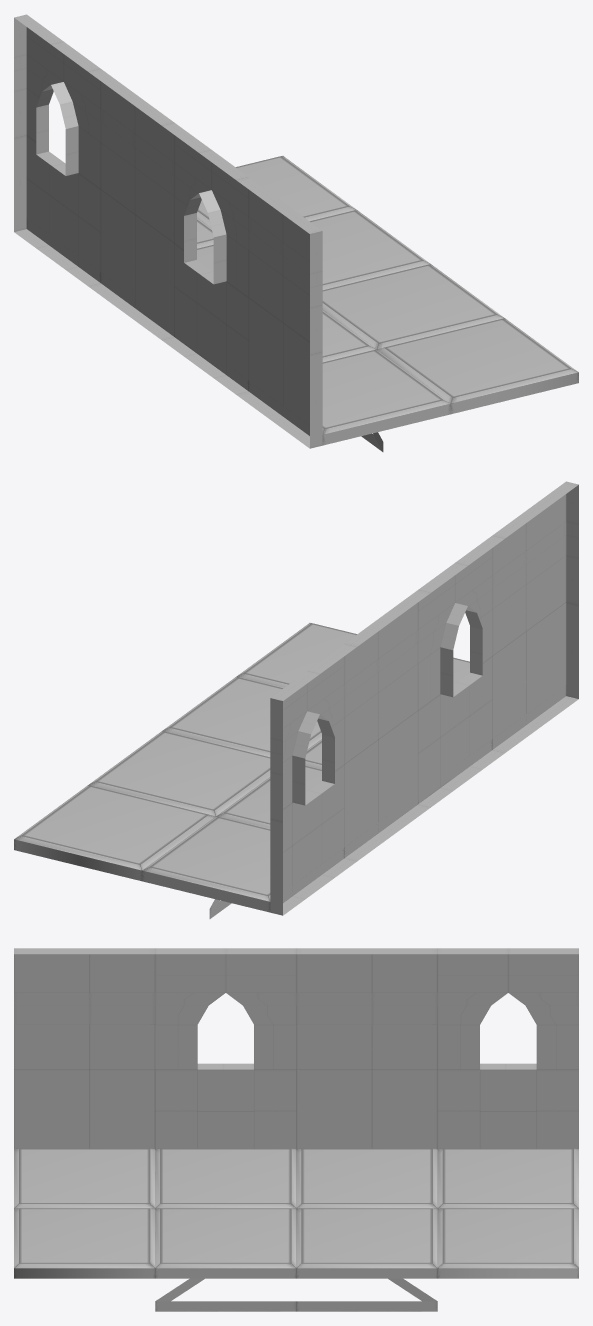
File: Corridor_short.fbx
3 views of the same model, one above another, from view 1: azimuth 30°, elevation 25°; view 2: azimuth 150°, elevation 25°; view 3: azimuth 270°, elevation 25° (orthographic). The views are drawn at different scales.
Visible parts, largest first — view 1: Corridor_short; view 2: Corridor_short; view 3: Corridor_short.
Boxes of the visible parts, bbox=[...] form: Corridor_short: bbox=[14, 14, 578, 451]; Corridor_short: bbox=[14, 481, 578, 918]; Corridor_short: bbox=[14, 948, 578, 1311].
Bounding box in the file's own units: 10.5 × 11.5 × 20.
